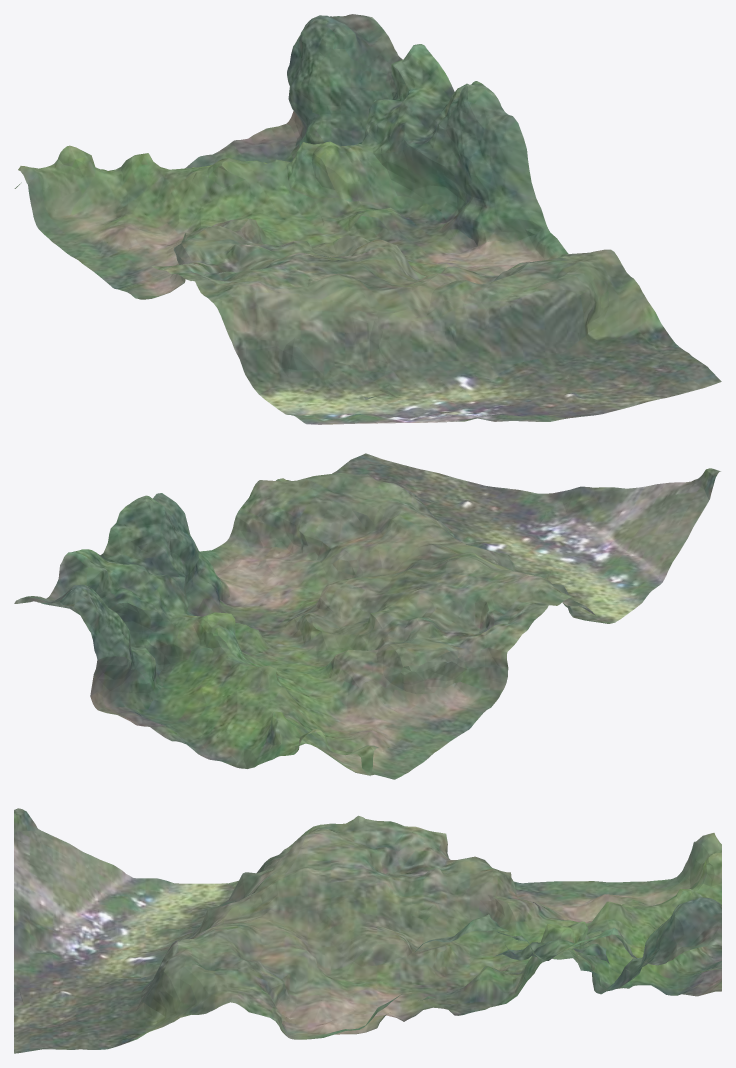
Rendered from Tile_+000_+001_L22_00002000.glb.
3 views of the same model, one above another, from view 1: azimuth 30°, elevation 25°; view 2: azimuth 150°, elevation 25°; view 3: azimuth 270°, elevation 25° (orthographic).
Visible parts, largest first — view 1: rtc; view 2: rtc; view 3: rtc.
Boxes of the visible parts, x1,y1,x2,y2 form: rtc: (14, 14, 721, 424); rtc: (14, 453, 720, 779); rtc: (14, 808, 721, 1053).
Size of the model in its own units: 14.96 by 5.4 by 25.59.
Materials: 1 (1 with a texture image).
